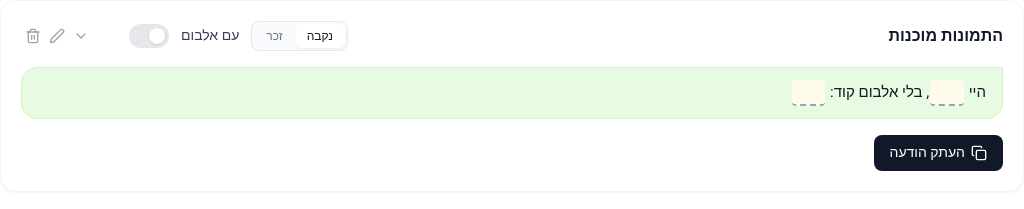
MessageCard › confirms copy when everything is filled
Type "רון" into the field named "שם הלקוח" at [947, 93], box x1=930 y1=80 x2=964 y2=106
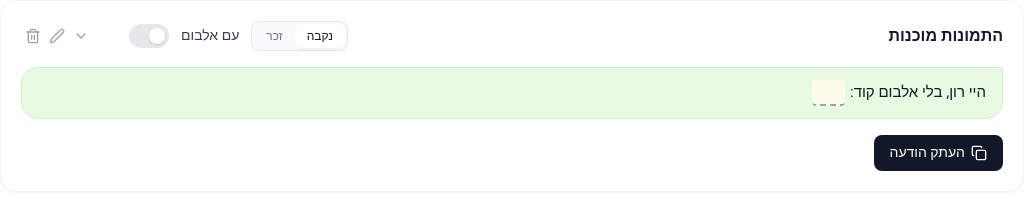
Type "99" into the field named "שדה למילוי 1" at [828, 93], box x1=812 y1=80 x2=845 y2=106
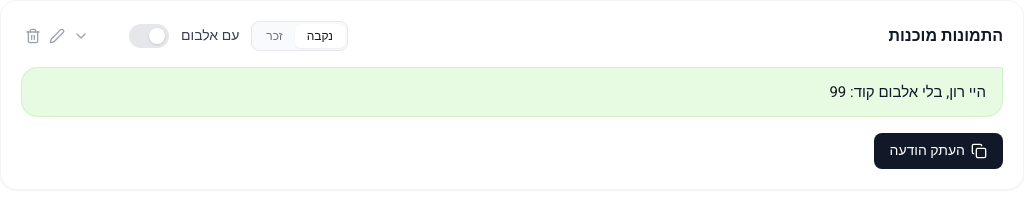
Click the button "העתק הודעה" at [938, 151], box x1=874 y1=133 x2=1003 y2=169
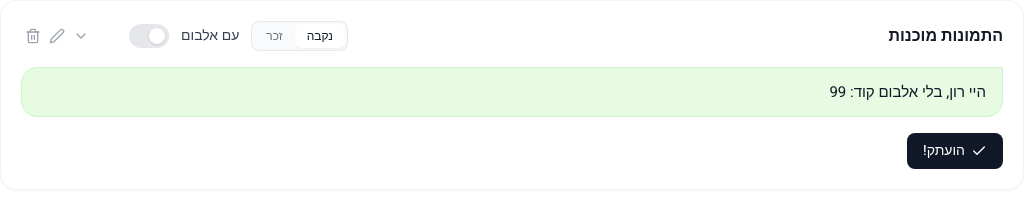
Expected: the button "הועתק!" is shown, x1=907 y1=133 x2=1003 y2=169
